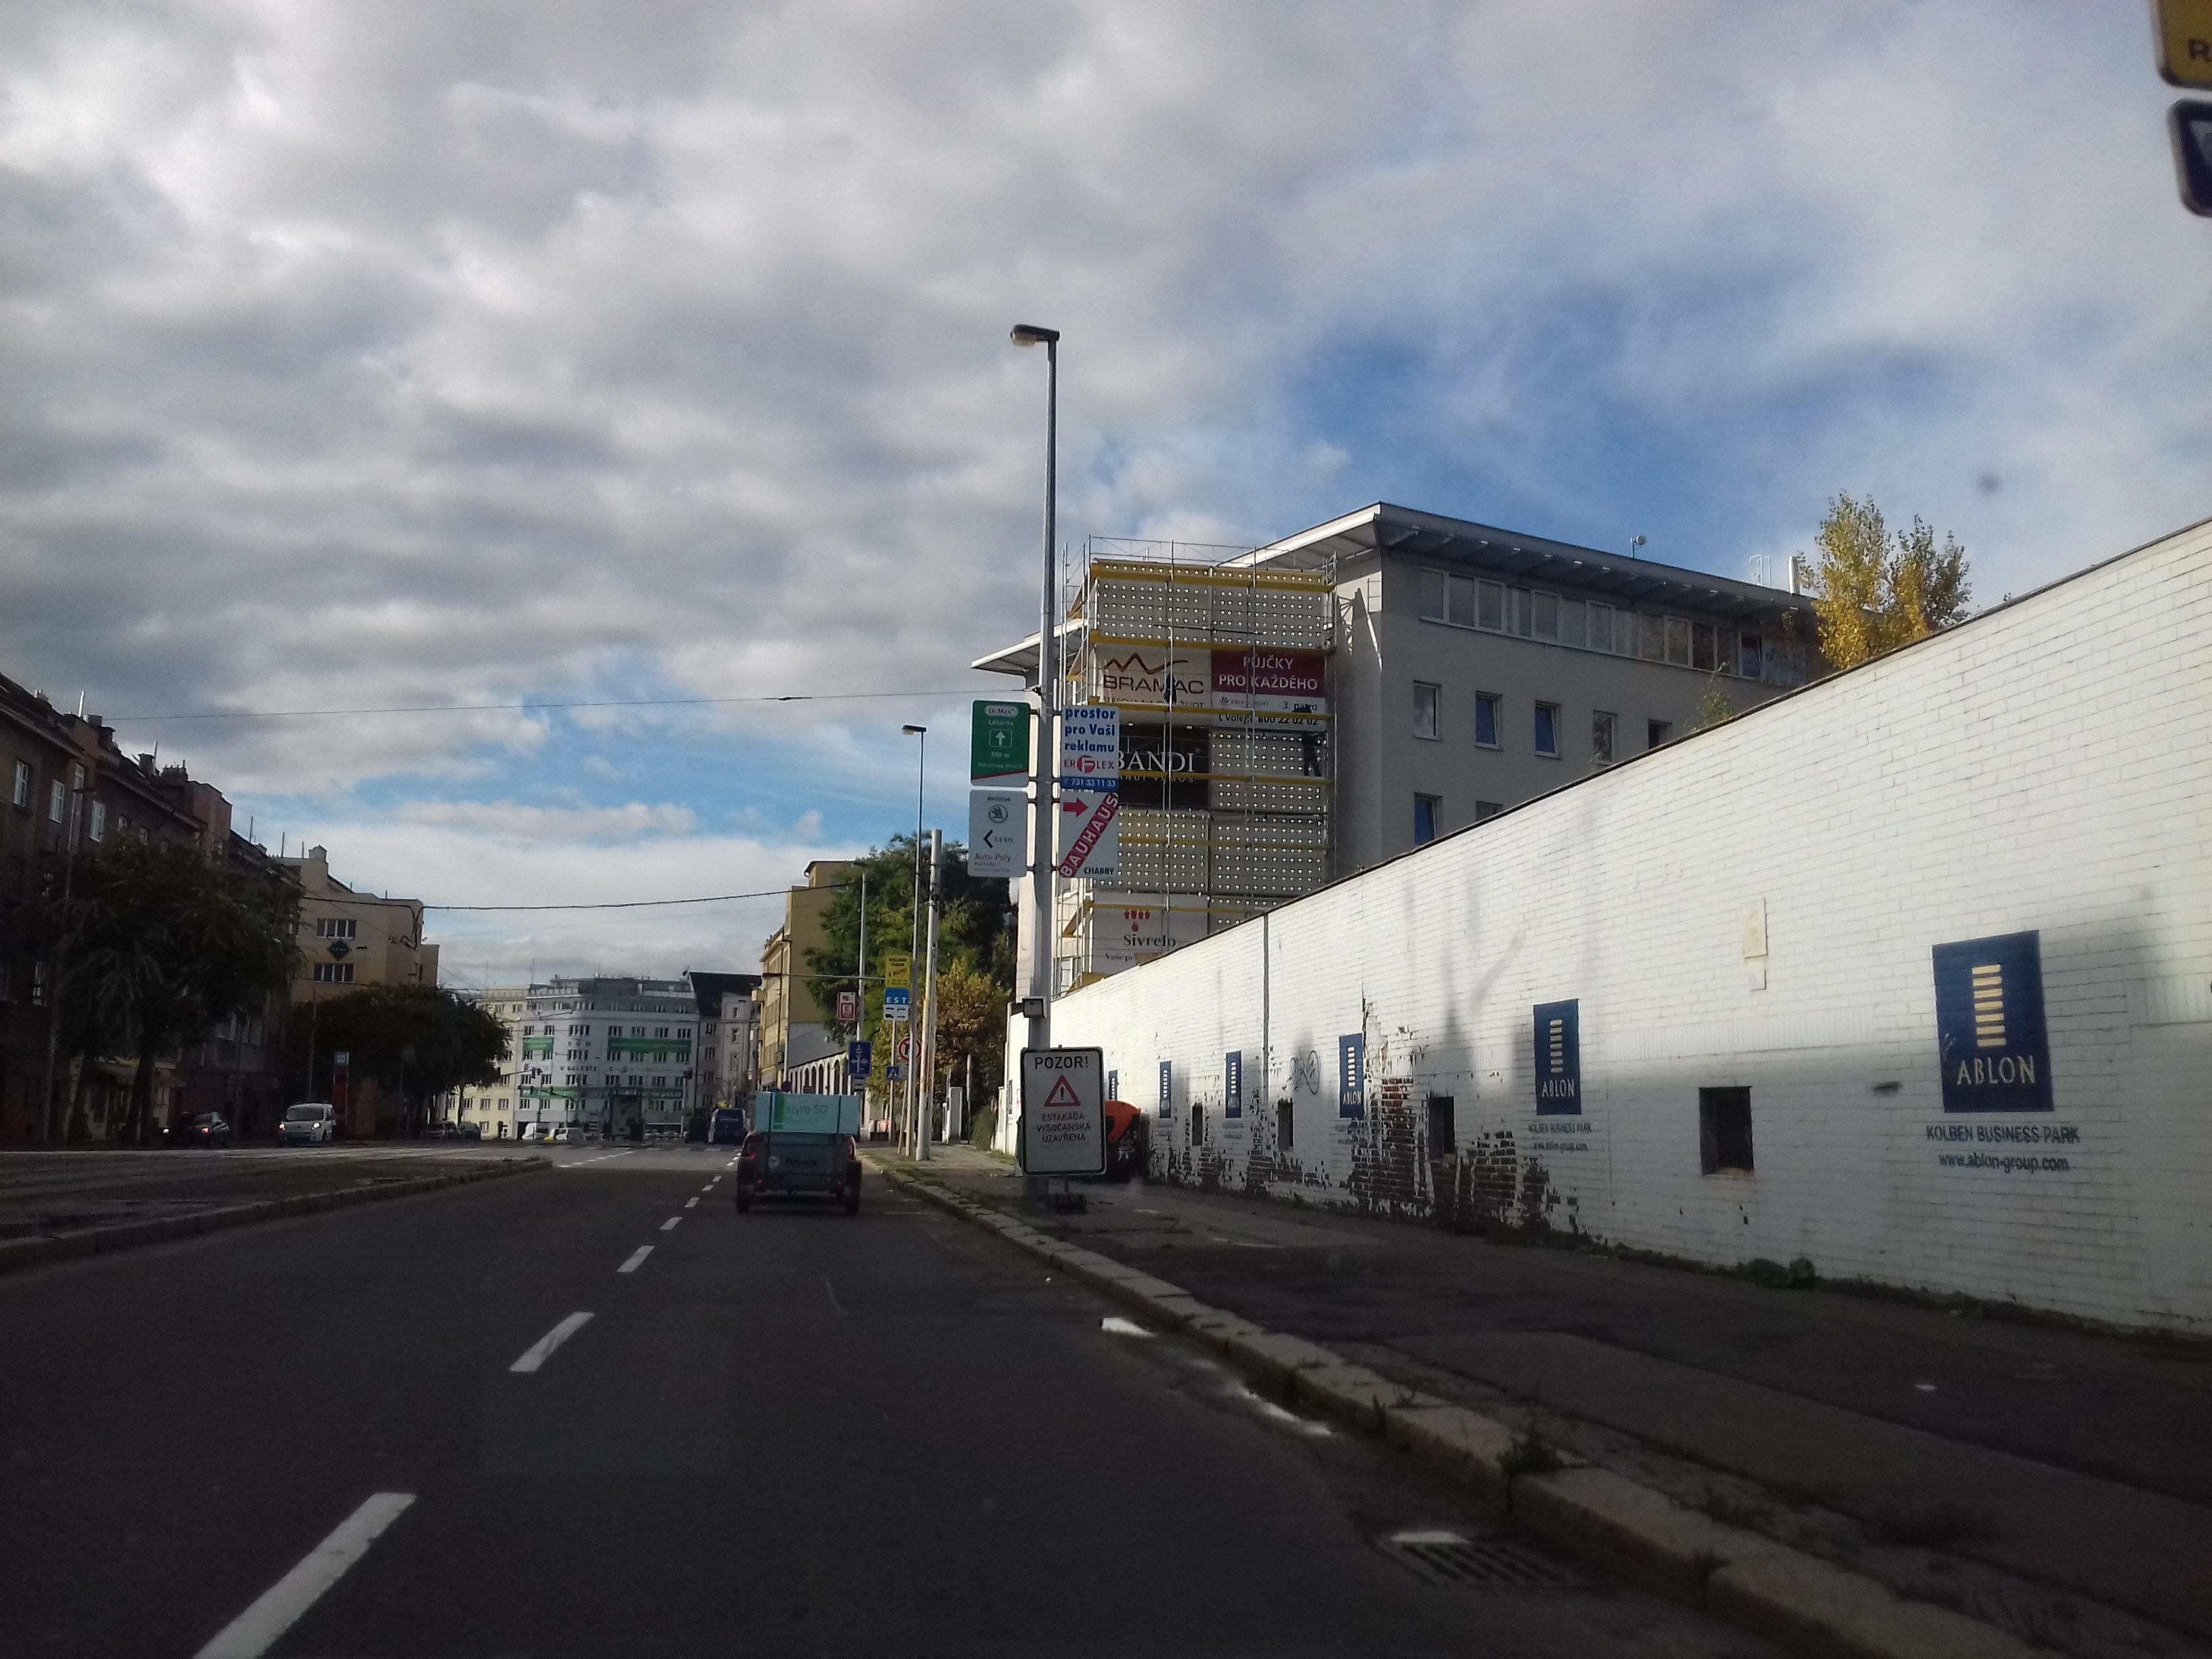vinyl banner: (1094, 718, 1245, 828), (1209, 627, 1329, 744), (1089, 887, 1224, 985), (1090, 634, 1230, 728)
